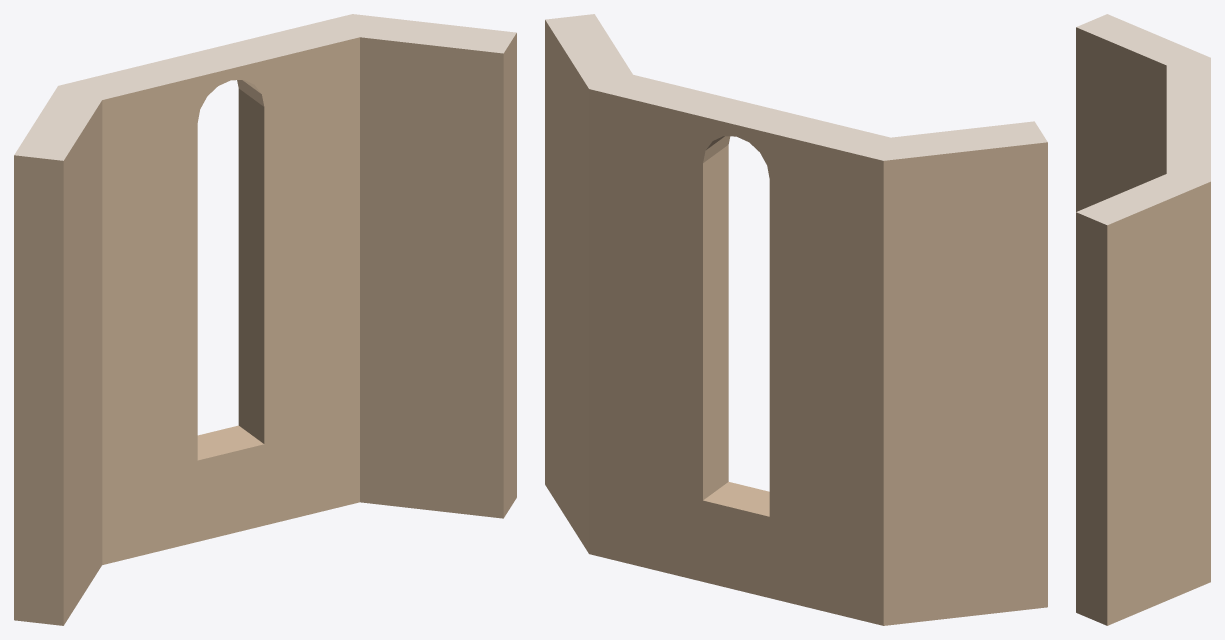
File: Tower_Wall_Tall_Window.obj
The picture shows the model from 3 angles, left to right: view 1: azimuth 30°, elevation 25°; view 2: azimuth 150°, elevation 25°; view 3: azimuth 270°, elevation 25°; orthographic projection. The views are drawn at different scales.
Parts seen in each view (by area): view 1: object1; view 2: object1; view 3: object1.
Part boxes in pixels (<box>): object1: <box>14,14,516,625</box>; object1: <box>545,14,1047,625</box>; object1: <box>1076,14,1210,625</box>.
Bounding box in the file's own units: 2.26 × 2 × 0.6101.
